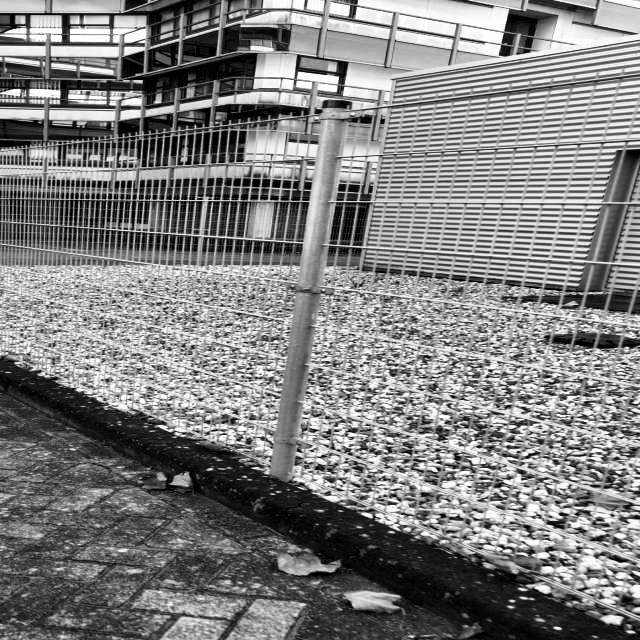fences: (335, 108, 640, 580), (5, 107, 306, 420)
